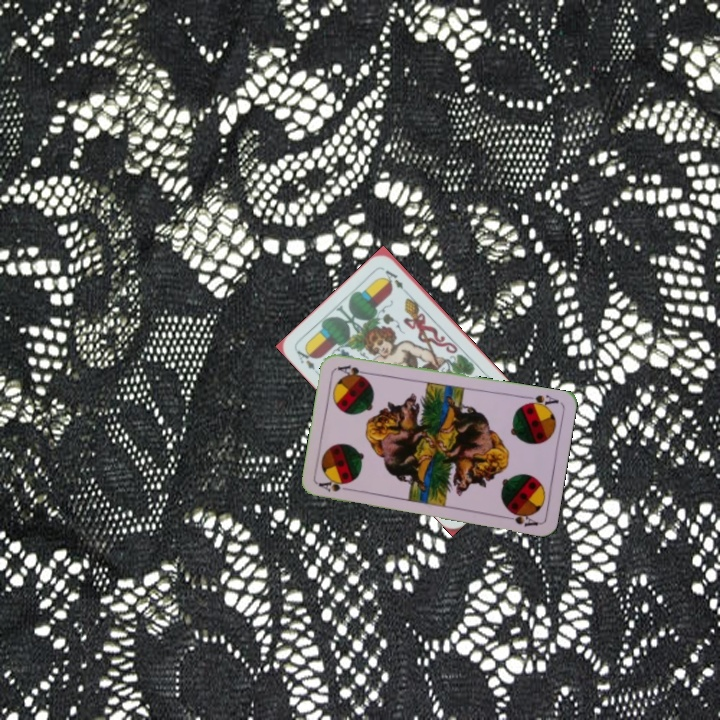EA: (292, 344, 318, 372)
SA: (520, 391, 561, 411), (315, 477, 356, 494)
